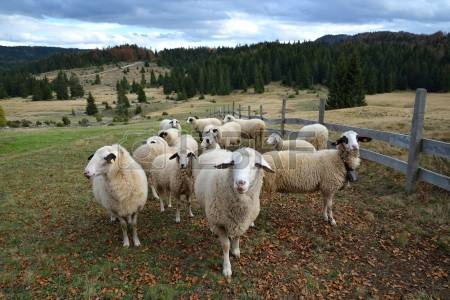sheep: (263, 131, 372, 222), (199, 148, 270, 272), (81, 140, 148, 250), (150, 148, 195, 222), (267, 128, 313, 154), (226, 113, 269, 140), (185, 114, 222, 137), (296, 120, 333, 141)
